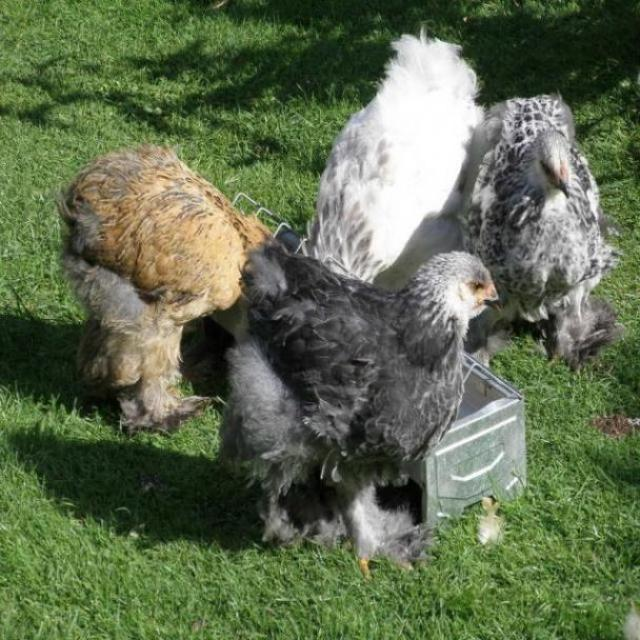Chicken: (220, 209, 505, 580), (50, 141, 275, 438), (300, 24, 489, 294), (459, 91, 628, 375)
